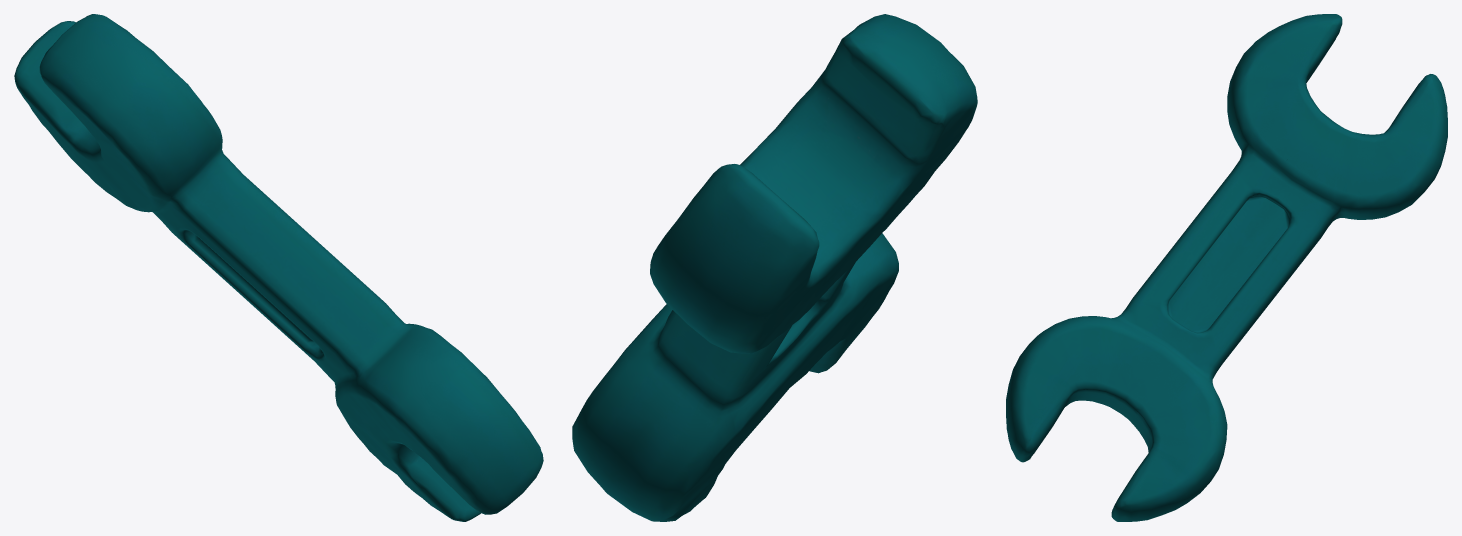
The model's file is icon-wrench.glb.
3 views of the same model, side by side, from view 1: azimuth 30°, elevation 25°; view 2: azimuth 150°, elevation 25°; view 3: azimuth 270°, elevation 25° (orthographic). The views are drawn at different scales.
Parts seen in each view (by area): view 1: tripo_node_kodyurd-model-71____________________; view 2: tripo_node_kodyurd-model-71____________________; view 3: tripo_node_kodyurd-model-71____________________.
Part boxes in pixels (box(x1,y1,x2,y2)): tripo_node_kodyurd-model-71____________________: box(14, 14, 543, 521); tripo_node_kodyurd-model-71____________________: box(572, 14, 977, 521); tripo_node_kodyurd-model-71____________________: box(1006, 14, 1447, 521).
Bounding box in the file's own units: 0.7871 × 0.998 × 0.998.
Materials: 1 (1 with a texture image).
